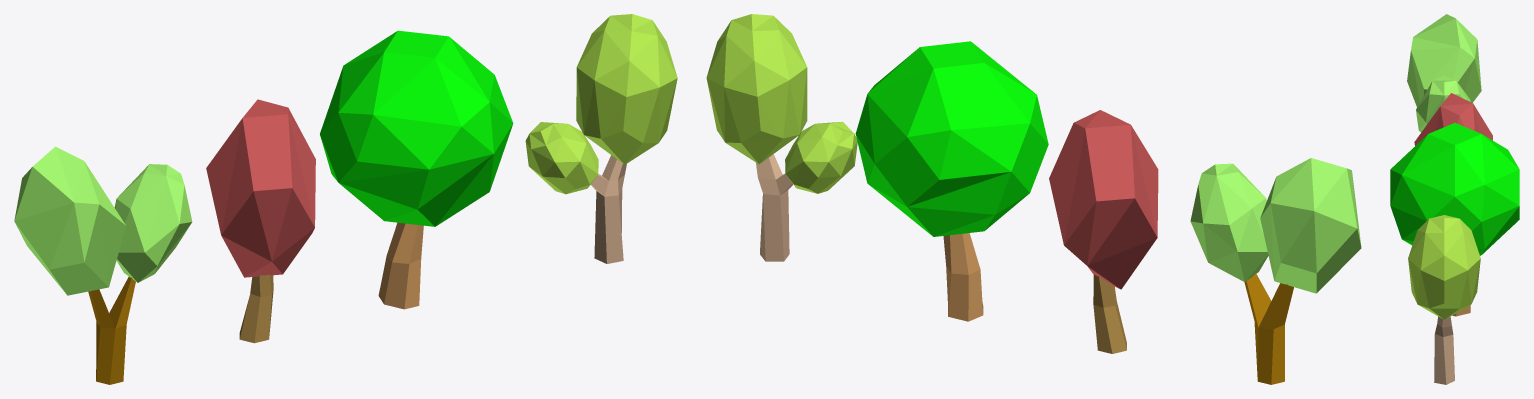
Rendered from tree-library-select-all.glb.
3 renders of one model, left to right at view 1: azimuth 30°, elevation 25°; view 2: azimuth 150°, elevation 25°; view 3: azimuth 270°, elevation 25°, orthographic. The views are drawn at different scales.
Parts seen in each view (by area): view 1: Low poly trees big pack; view 2: Low poly trees big pack; view 3: Low poly trees big pack.
Part boxes in pixels (x1=…): Low poly trees big pack: x1=14, y1=14, x2=677, y2=384; Low poly trees big pack: x1=706, y1=14, x2=1361, y2=384; Low poly trees big pack: x1=1390, y1=14, x2=1519, y2=384.
Bounding box in the file's own units: 12.67 × 4.7 × 3.04.
